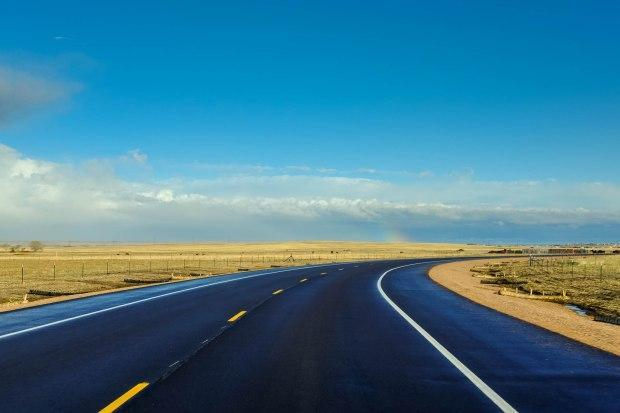cloud: (0, 128, 351, 243)
